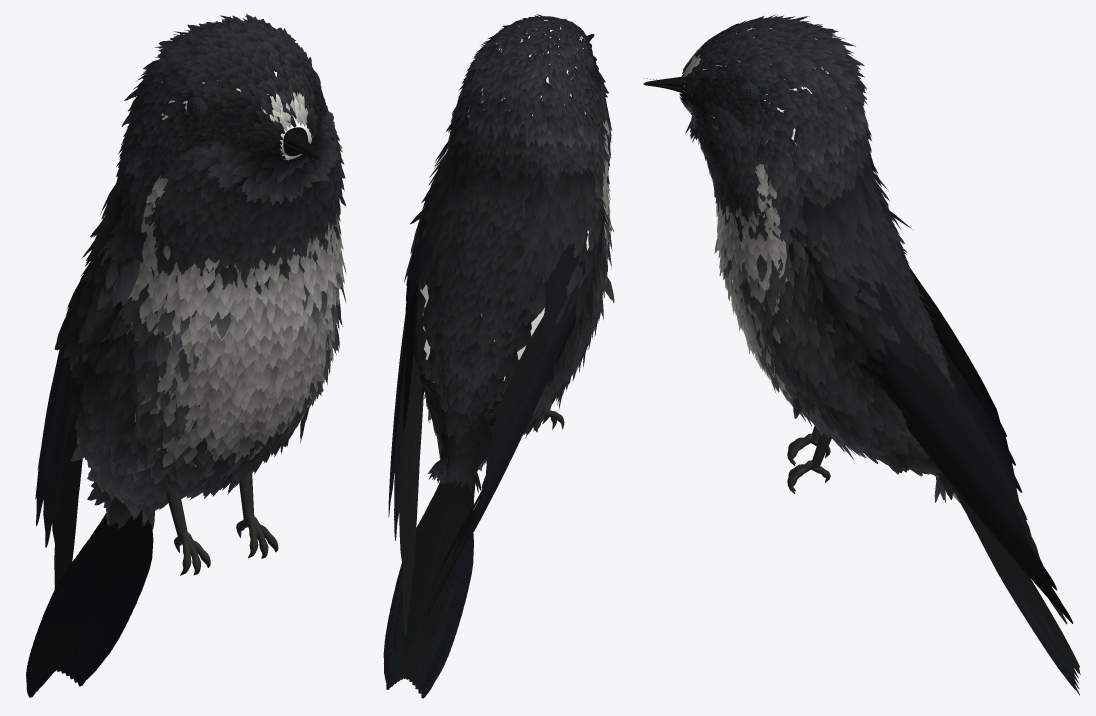
File: manu-toutouwai.glb
3 views of the same model, side by side, from view 1: azimuth 30°, elevation 25°; view 2: azimuth 150°, elevation 25°; view 3: azimuth 270°, elevation 25° (orthographic). The views are drawn at different scales.
Parts seen in each view (by area): view 1: contour_feathers, wing_and_tail_feathers, legs_and_feet, bill; view 2: contour_feathers, wing_and_tail_feathers, body_skin, legs_and_feet; view 3: contour_feathers, wing_and_tail_feathers, legs_and_feet.
Part boxes in pixels (box(x1,y1,x2,y2)): contour_feathers: box(62, 14, 346, 528); wing_and_tail_feathers: box(26, 236, 316, 697); legs_and_feet: box(165, 69, 320, 575); bill: box(283, 129, 319, 159); contour_feathers: box(410, 14, 614, 492); wing_and_tail_feathers: box(383, 181, 603, 698); body_skin: box(420, 20, 588, 382); legs_and_feet: box(535, 56, 594, 432); contour_feathers: box(679, 14, 961, 503); wing_and_tail_feathers: box(788, 226, 1080, 695); legs_and_feet: box(738, 82, 831, 493).
Bounding box in the file's own units: 0.0568 × 0.1743 × 0.1041.
4 materials, 1 textured.
